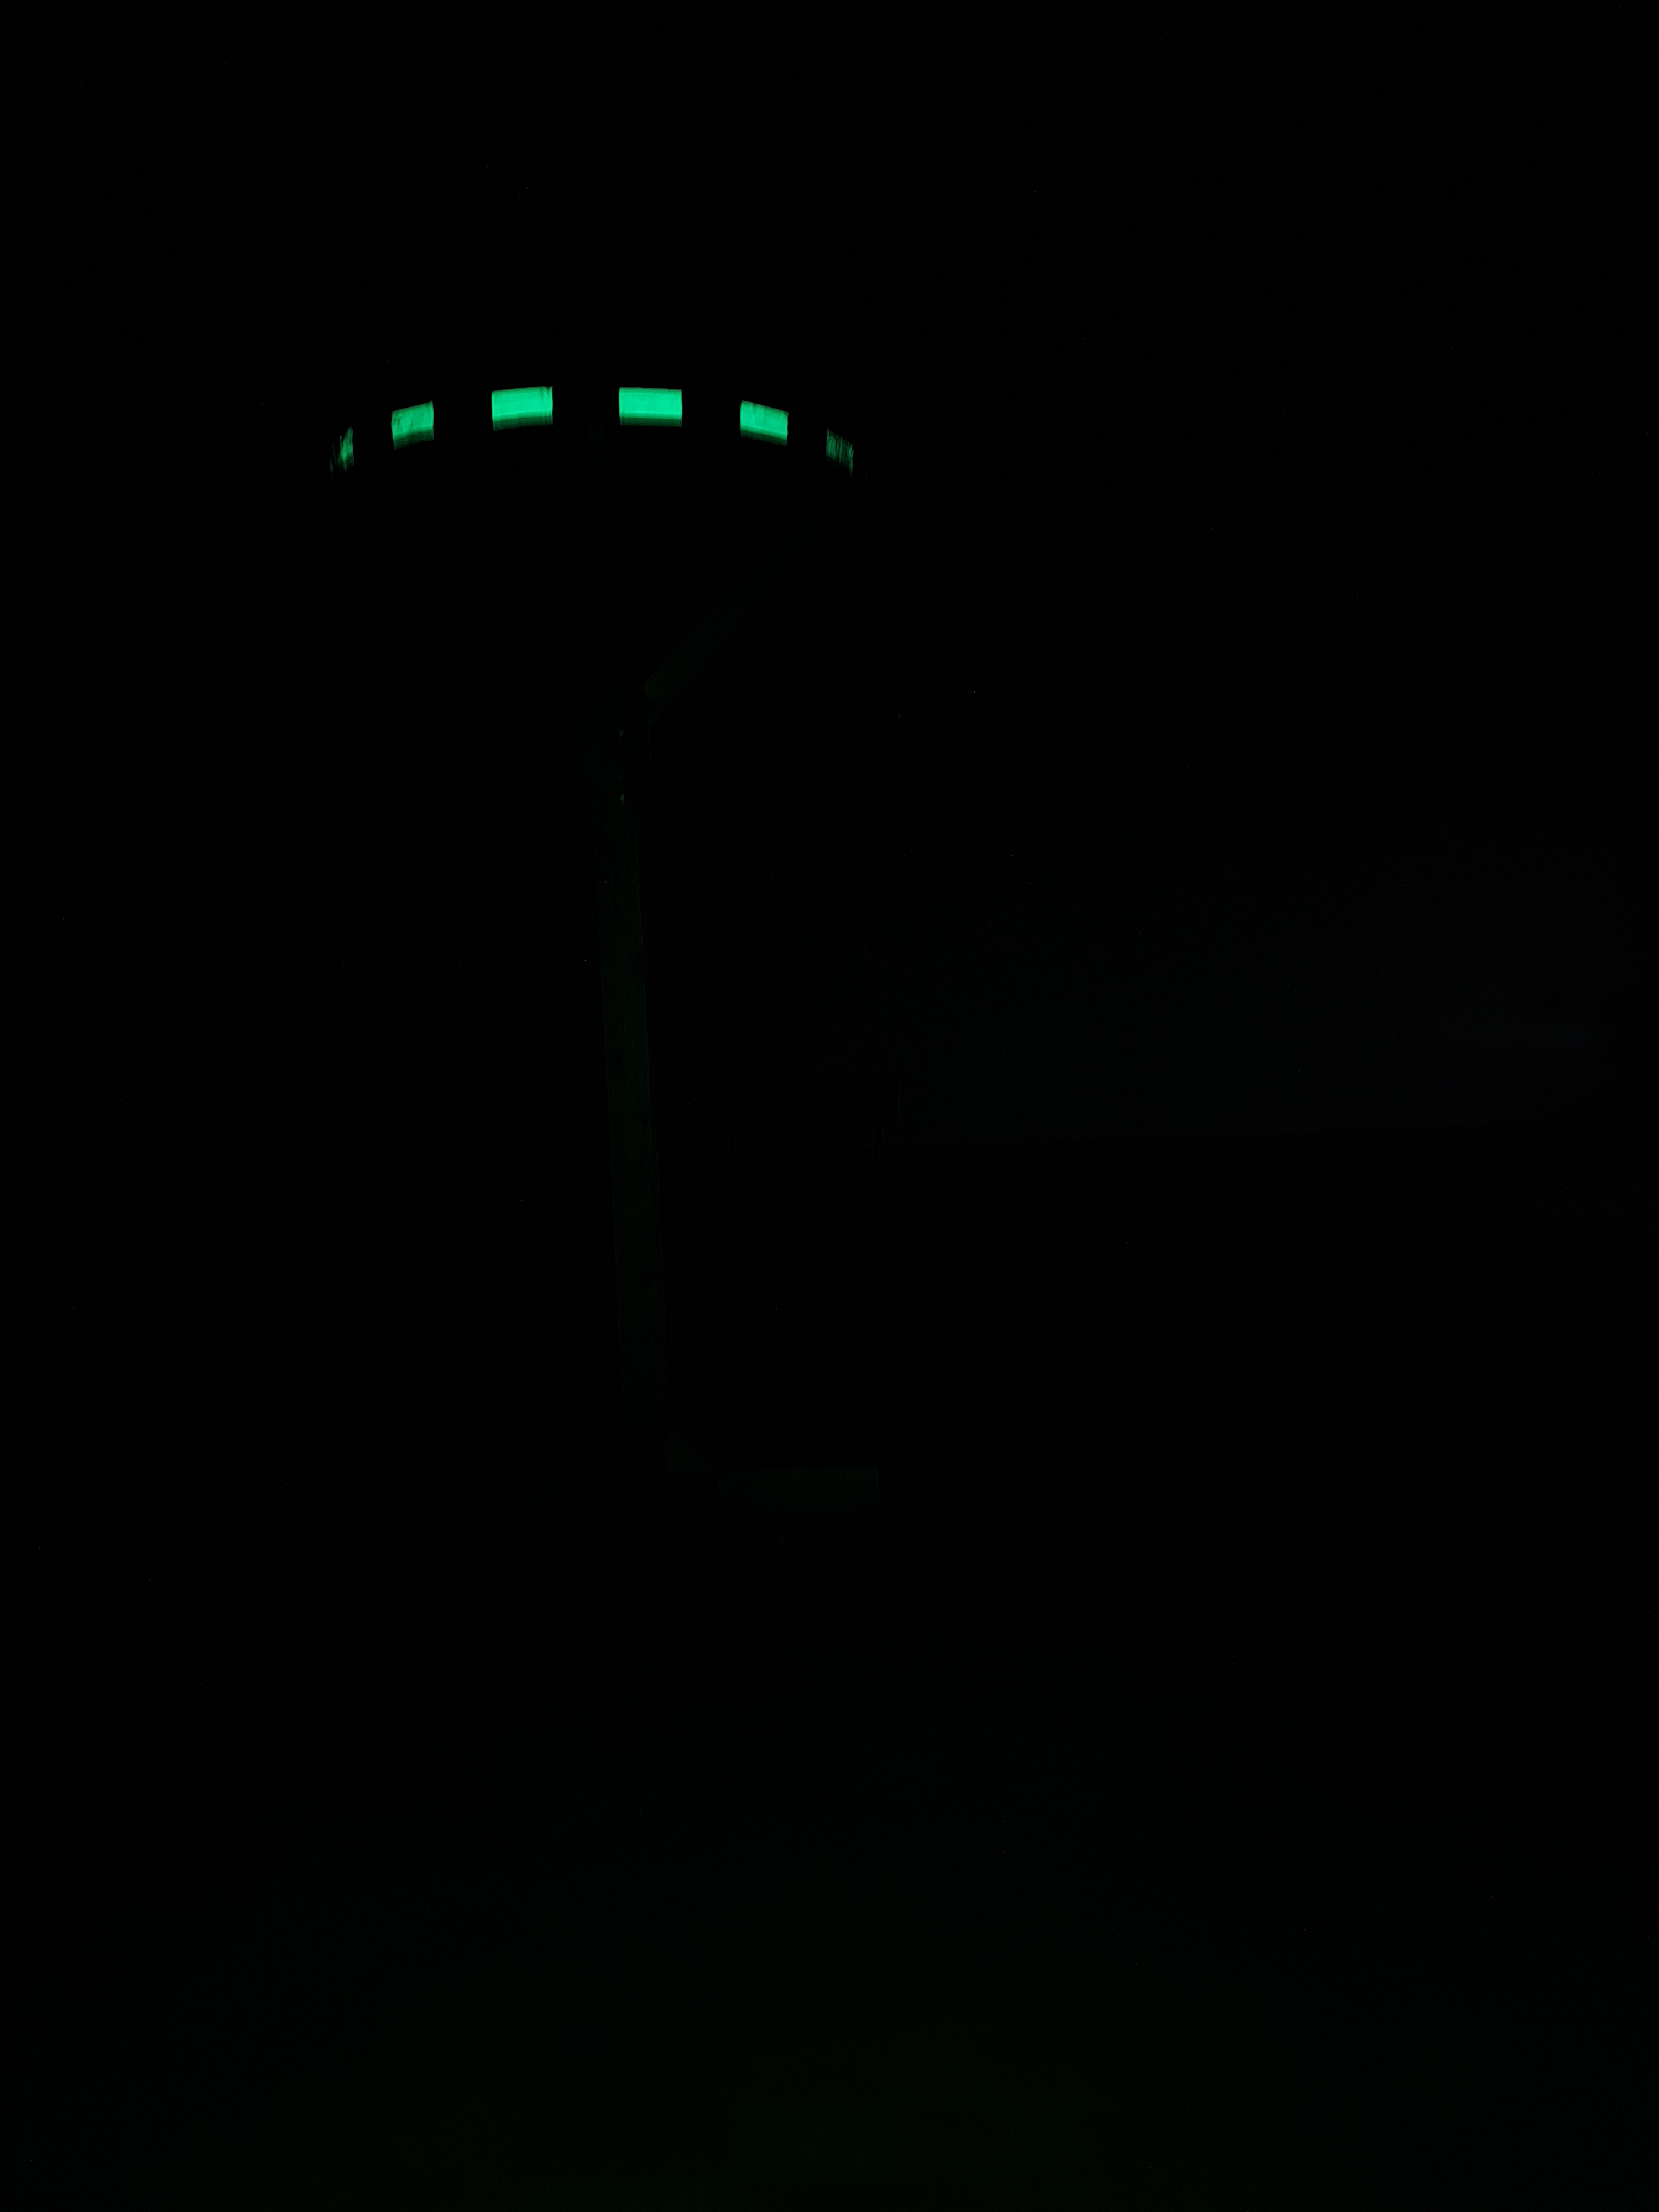hoop: (319, 378, 859, 484)
